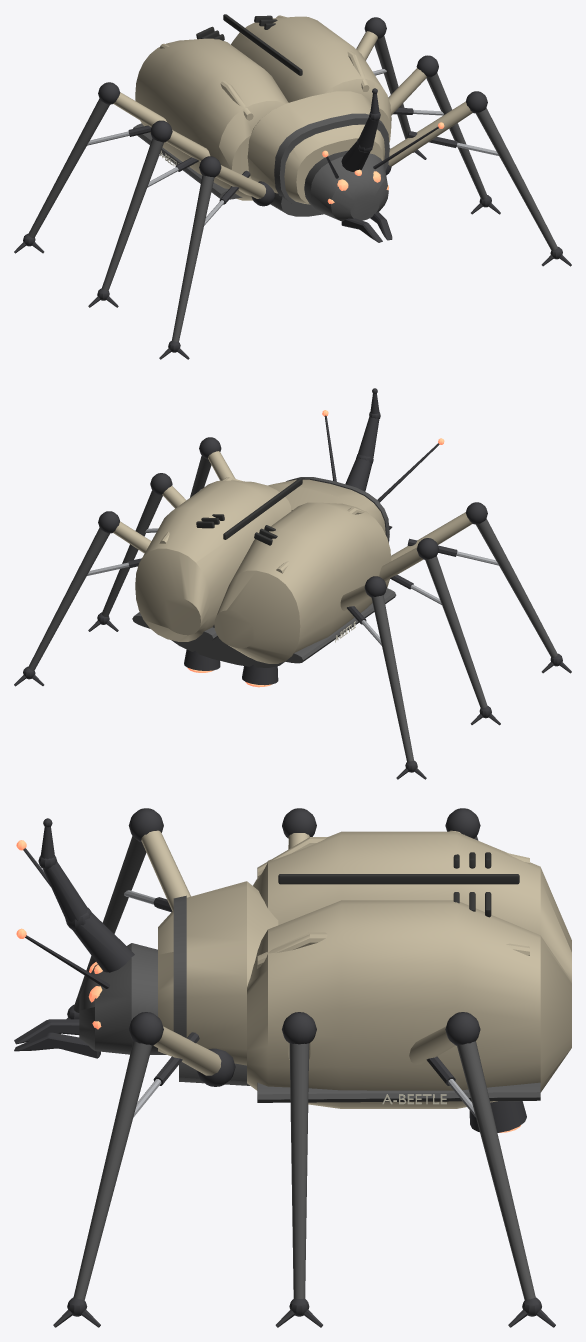
File: beetle.glb
3 renders of one model, top to bottom at view 1: azimuth 30°, elevation 25°; view 2: azimuth 150°, elevation 25°; view 3: azimuth 270°, elevation 25°, orthographic. The views are drawn at different scales.
Visible parts, largest first — view 1: Body; view 2: Body; view 3: Body.
Part boxes in pixels (x1,y1,x2,y2): Body: (14,14,571,359); Body: (14,388,571,779); Body: (14,808,571,1327).
Bounding box in the file's own units: 1.4 × 0.7517 × 1.06.
